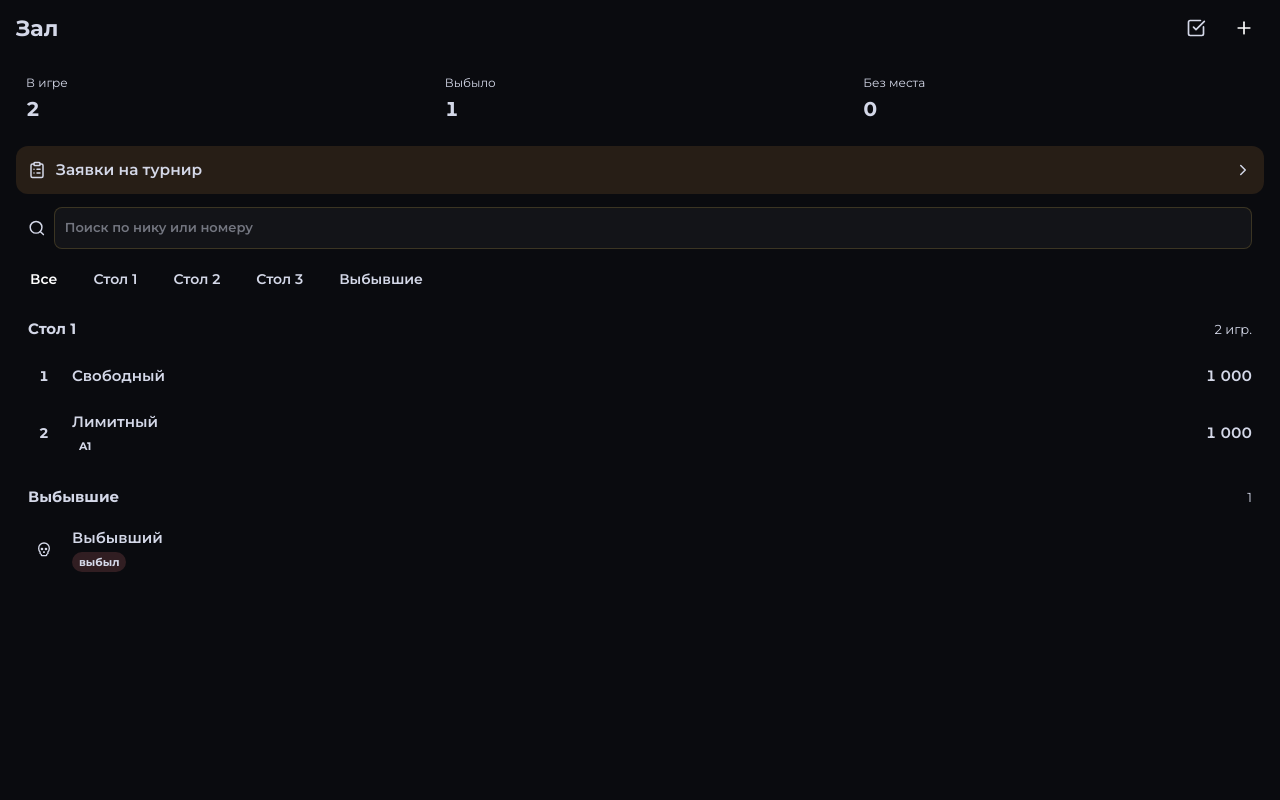
TMAPlayersPage › disables players who used their addon limit and hides eliminated ones from the list
Click the button named "Аддон списком" at (1196, 28), box x1=1176 y1=8 x2=1216 y2=48
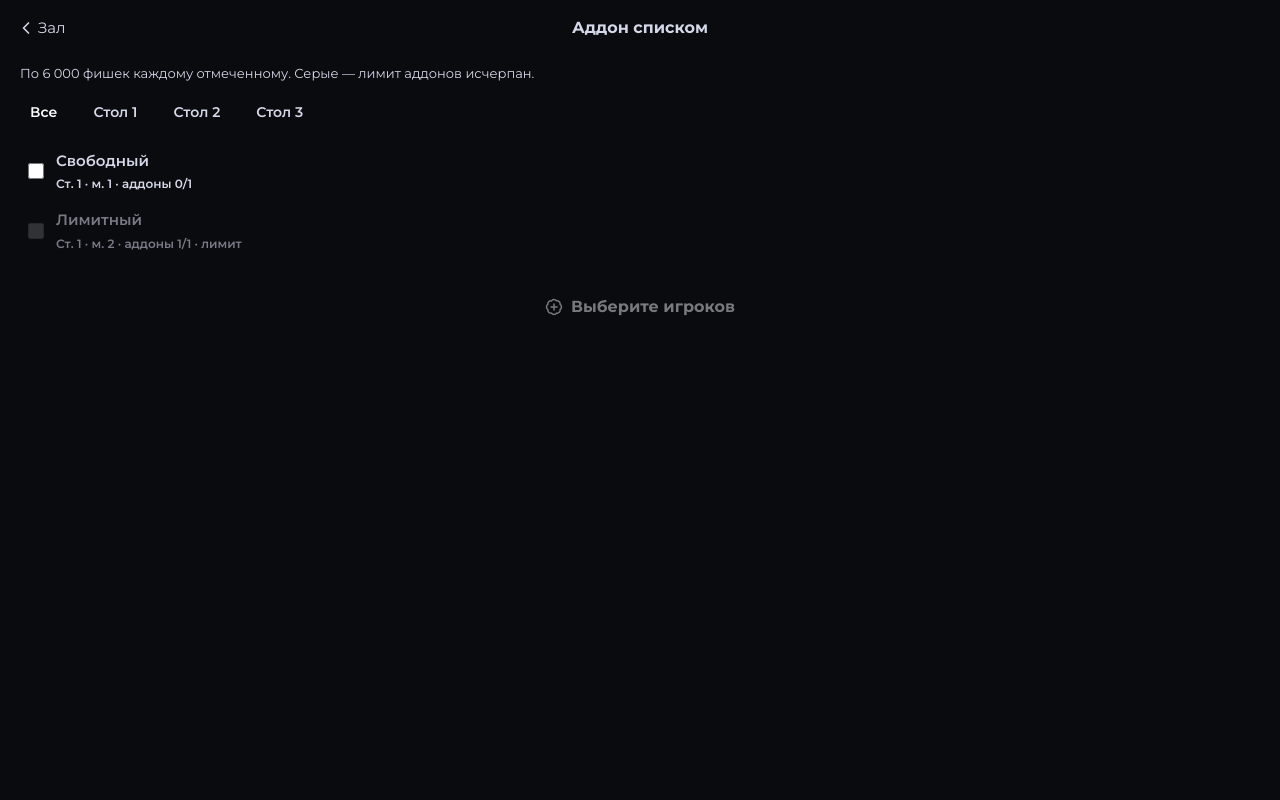
Expected: the checkbox named "Выбрать Свободный" is enabled, x1=28 y1=163 x2=44 y2=179
Now the checkbox named "Выбрать Лимитный" is disabled, box x1=28 y1=223 x2=44 y2=239
